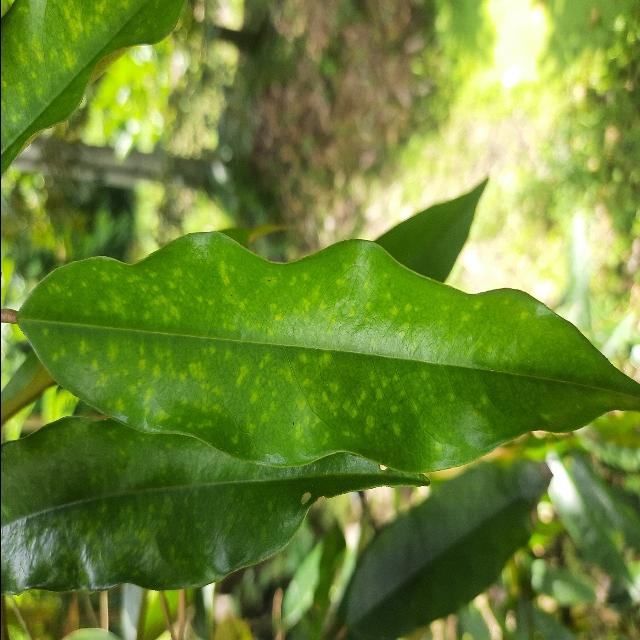Leaf Spot: (0, 227, 640, 490)
